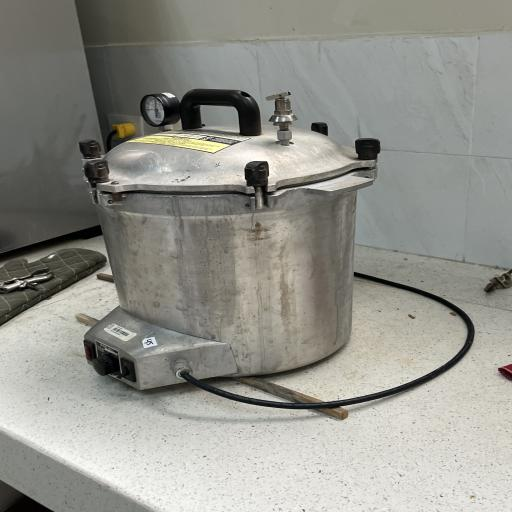Autoclave: (60, 81, 401, 405)
